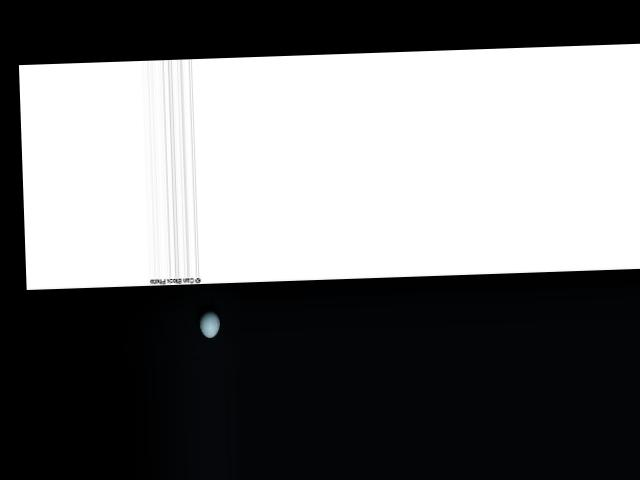egg: (198, 309, 220, 338)
